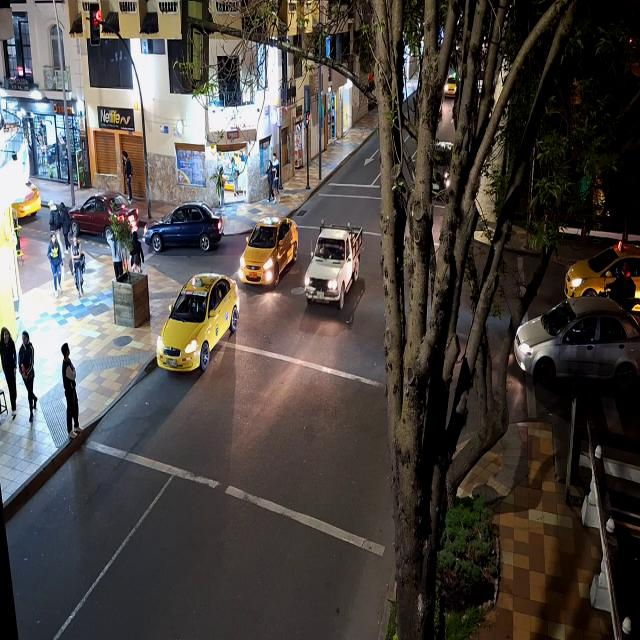CMT: (308, 227, 364, 306)
SED: (514, 302, 639, 382), (163, 274, 228, 368), (144, 203, 222, 252), (564, 250, 640, 298), (239, 217, 293, 284), (68, 196, 138, 245)
